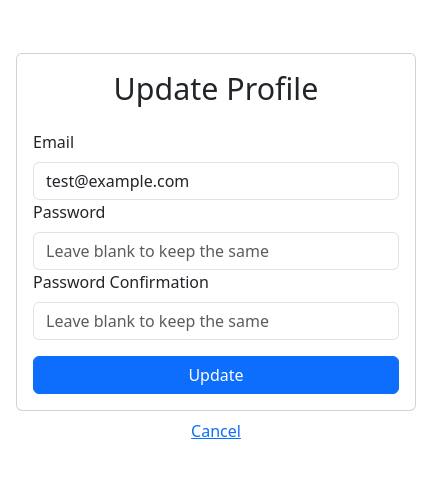
Scenario: Authentication Components › UpdateProfile › shows password mismatch error
Type "12345678" into the 1st password field with placeholder "Leave blank to keep the same". click: [216, 251]
box: [33, 232, 399, 270]
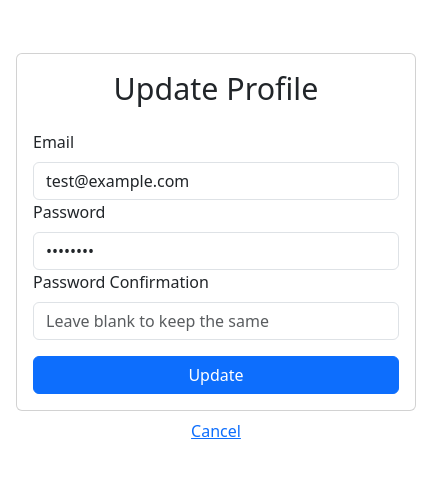
Type "mismatch" into the password field with placeholder "Leave blank to keep the same". click: [216, 321]
box: [33, 302, 399, 340]
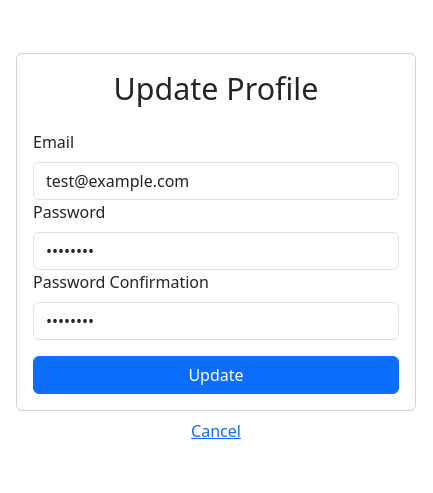
Click the button "Update". click: [216, 375]
box: [33, 356, 399, 394]
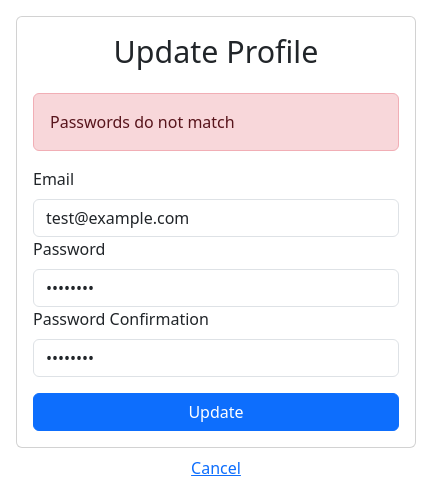
Now the text "Passwords do not match" is shown, box [33, 93, 399, 151]
